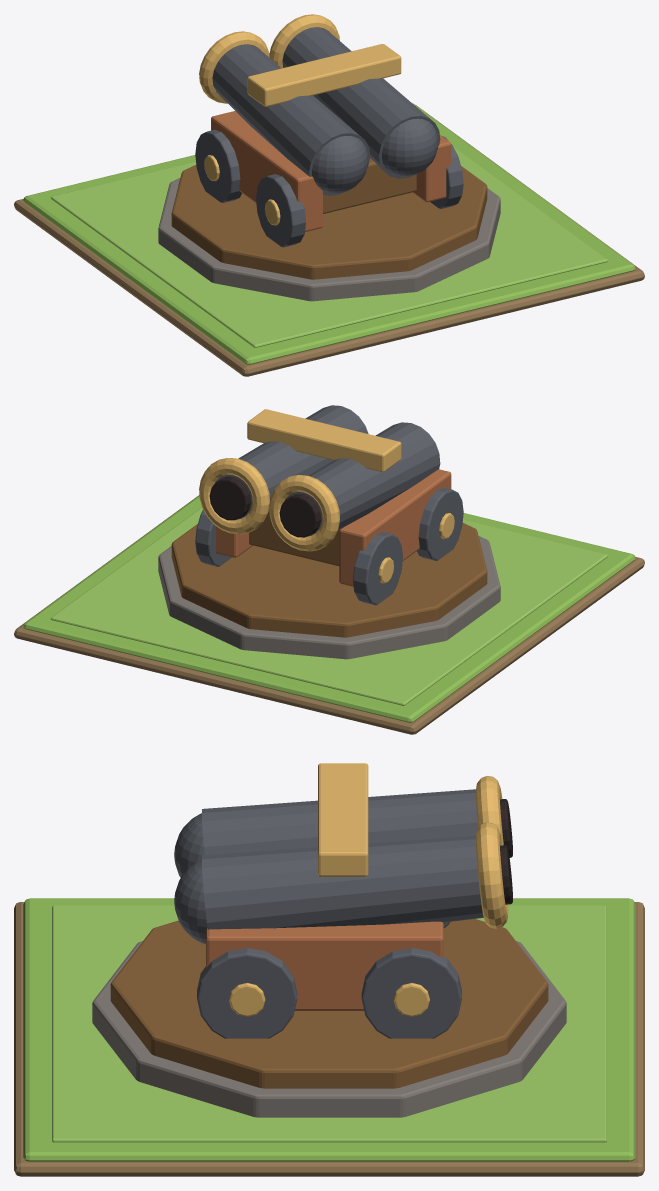
Rendered from double_cannon_lv1.glb.
The picture shows the model from 3 angles, top to bottom: view 1: azimuth 30°, elevation 25°; view 2: azimuth 150°, elevation 25°; view 3: azimuth 270°, elevation 25°; orthographic projection. The views are drawn at different scales.
Visible parts, largest first — view 1: Base_Inner, TurntableWood, Base_Grass, TurntableStone, Base_Dirt, TwinBarrel_-1, TwinBarrel_1, TwinYokeStrap, DC_Cheek_-1, TwinBreech_1, TwinBreech_-1, DC_Wheel_-1_-1 (+6 smaller); view 2: Base_Inner, TurntableWood, Base_Grass, TurntableStone, Base_Dirt, TwinBarrel_-1, TwinYokeStrap, DC_Cheek_-1, TwinBarrel_1, TwinMuzzleLip_-1, TwinMuzzleLip_1, DC_Wheel_-1_1 (+6 smaller); view 3: Base_Inner, TurntableWood, Base_Grass, TwinBarrel_1, TurntableStone, Base_Dirt, DC_Cheek_1, TwinBarrel_-1, DC_Wheel_1_1, DC_Wheel_1_-1, TwinYokeStrap, TwinMuzzleLip_1 (+5 smaller).
Boxes of the visible parts, x1,y1,x2,y2 form: Base_Inner: (51,147,607,347); TurntableWood: (171,165,487,279); Base_Grass: (23,103,635,364); TurntableStone: (158,178,500,301); Base_Dirt: (14,105,644,376); TwinBarrel_-1: (212,44,370,195); TwinBarrel_1: (282,27,440,178); TwinYokeStrap: (247,44,401,106); DC_Cheek_-1: (211,111,322,231); TwinBreech_1: (382,118,438,176); TwinBreech_-1: (312,136,368,193); DC_Wheel_-1_-1: (256,174,305,247); Base_Inner: (51,507,607,705); TurntableWood: (171,523,487,637); Base_Grass: (23,495,635,722); TurntableStone: (158,536,500,659); Base_Dirt: (14,495,644,734); TwinBarrel_-1: (285,422,440,536); TwinYokeStrap: (247,409,401,472); DC_Cheek_-1: (339,469,451,586); TwinBarrel_1: (215,405,368,519); TwinMuzzleLip_-1: (269,475,339,551); TwinMuzzleLip_1: (199,458,269,534); DC_Wheel_-1_1: (353,532,402,605); Base_Inner: (52,905,606,1142); TurntableWood: (110,919,548,1088); Base_Grass: (23,898,635,1161); TwinBarrel_1: (202,835,483,929); TurntableStone: (92,941,566,1117); Base_Dirt: (14,902,644,1176); DC_Cheek_1: (206,921,443,1010); TwinBarrel_-1: (202,789,477,854); DC_Wheel_1_1: (361,948,461,1038); DC_Wheel_1_-1: (197,948,297,1038); TwinYokeStrap: (318,763,368,876); TwinMuzzleLip_1: (476,822,508,928).
Size of the model in its own units: 2.76 by 1.17 by 2.76.
